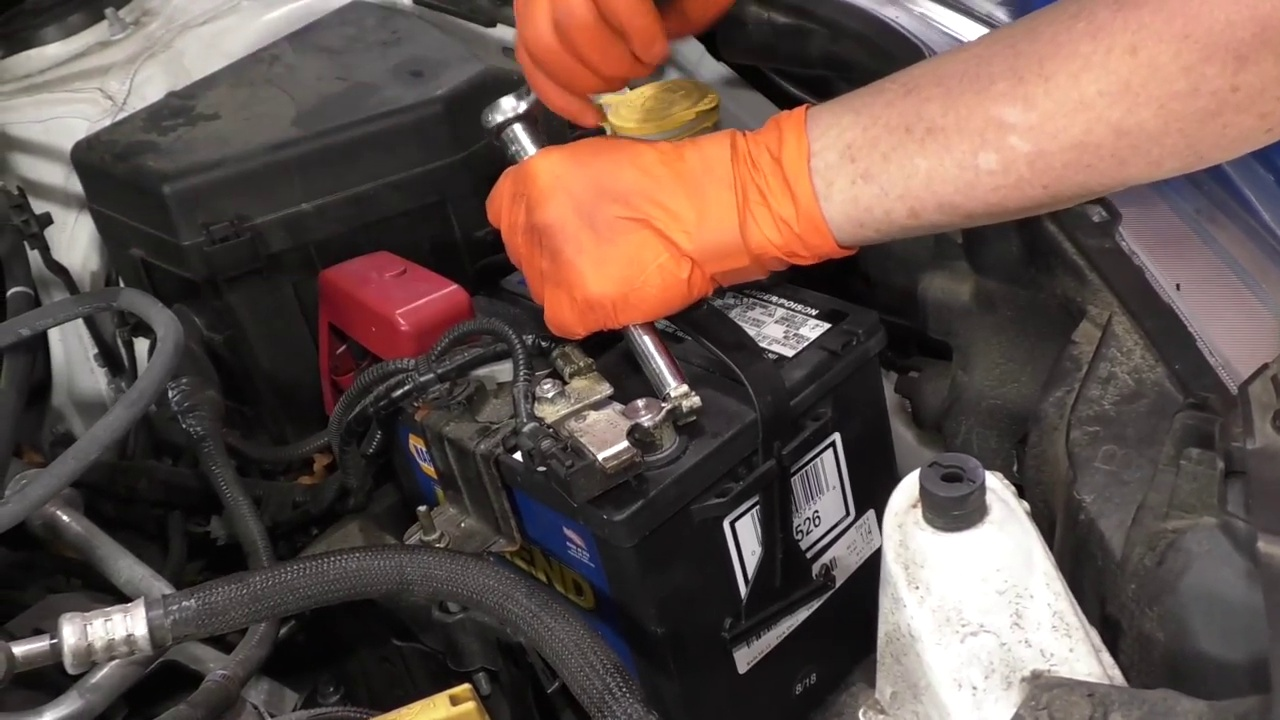battery: (357, 229, 873, 520)
neg_connected: (541, 366, 695, 489)
pos_connected: (291, 216, 479, 452)
